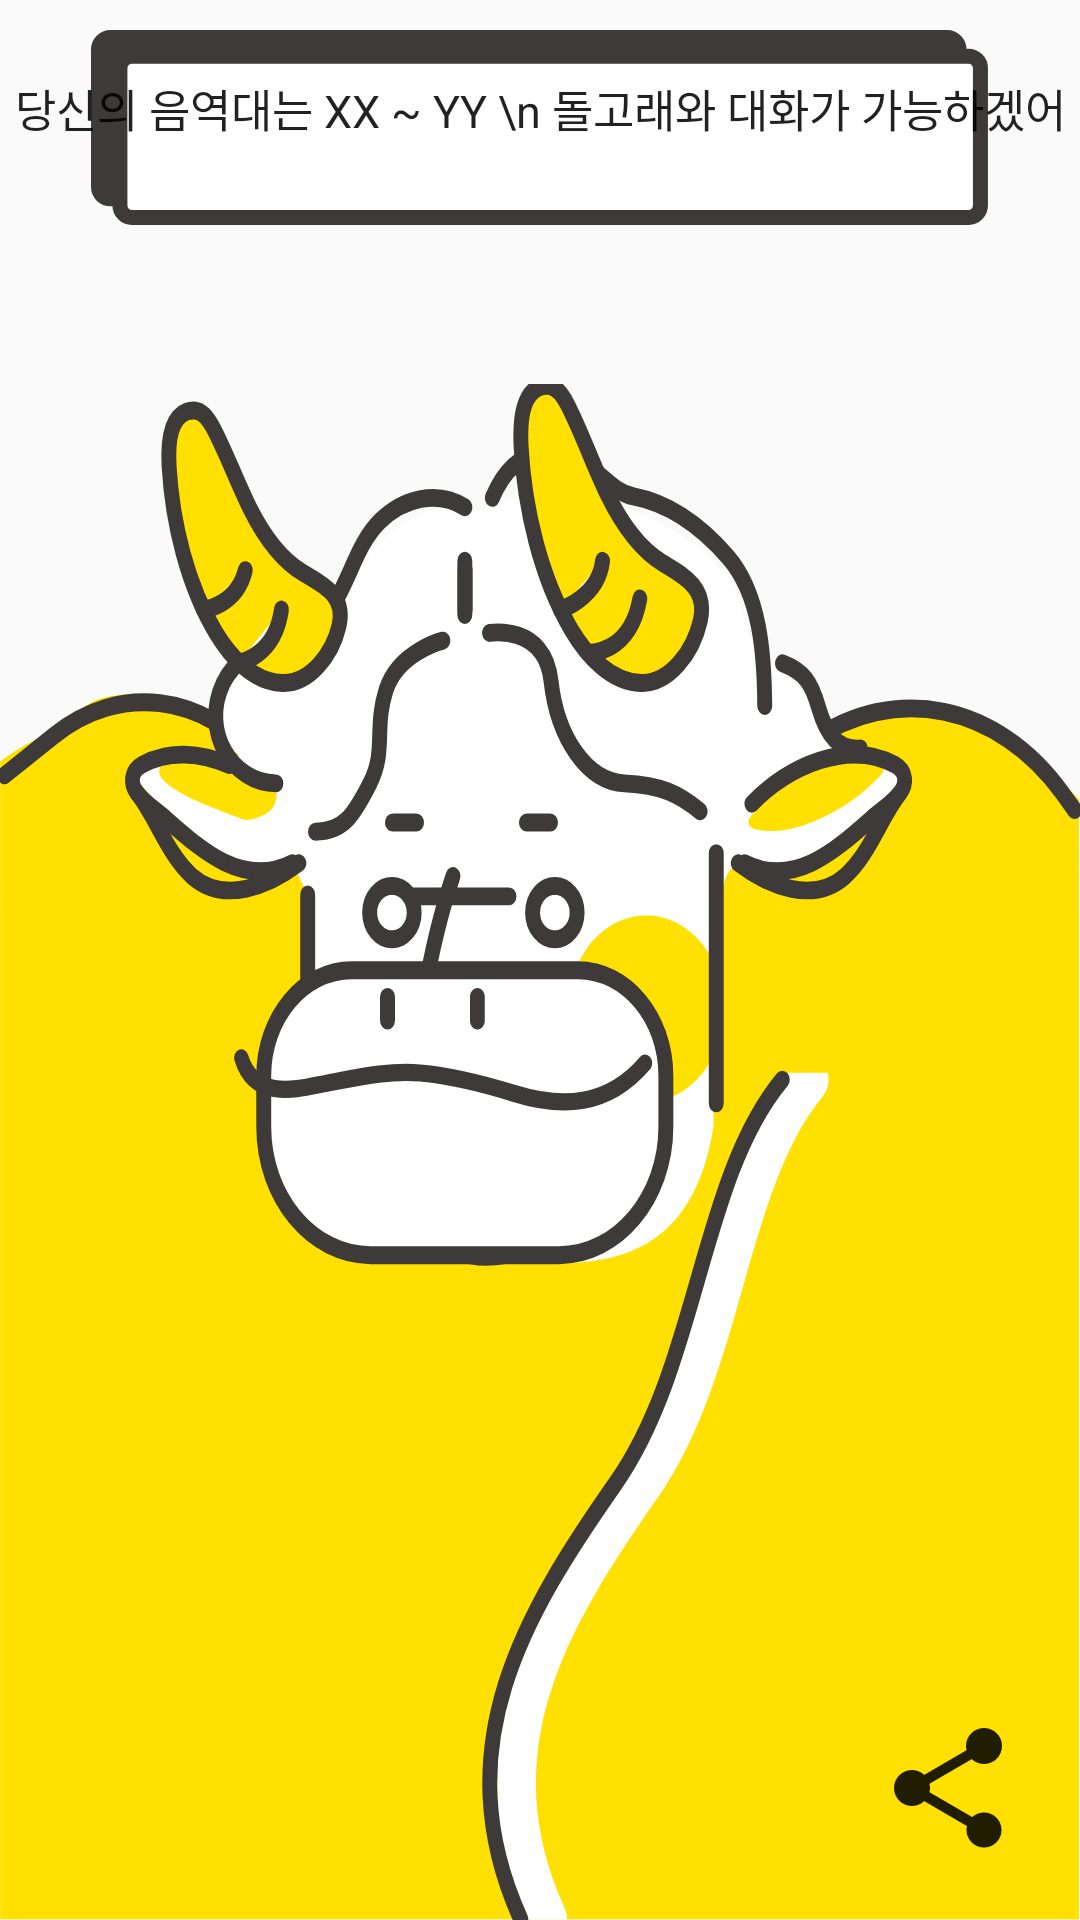

Icon bounding boxes for this 1080w x 1920h phone screenshot, format (x1, y1, x2, y2):
share: (894, 1728, 1002, 1848)
